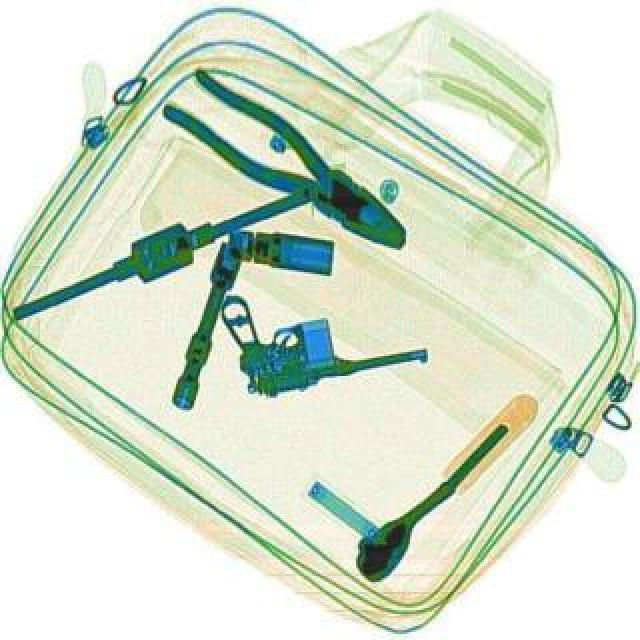gun: (218, 262, 434, 402)
wrench: (158, 60, 426, 270)
